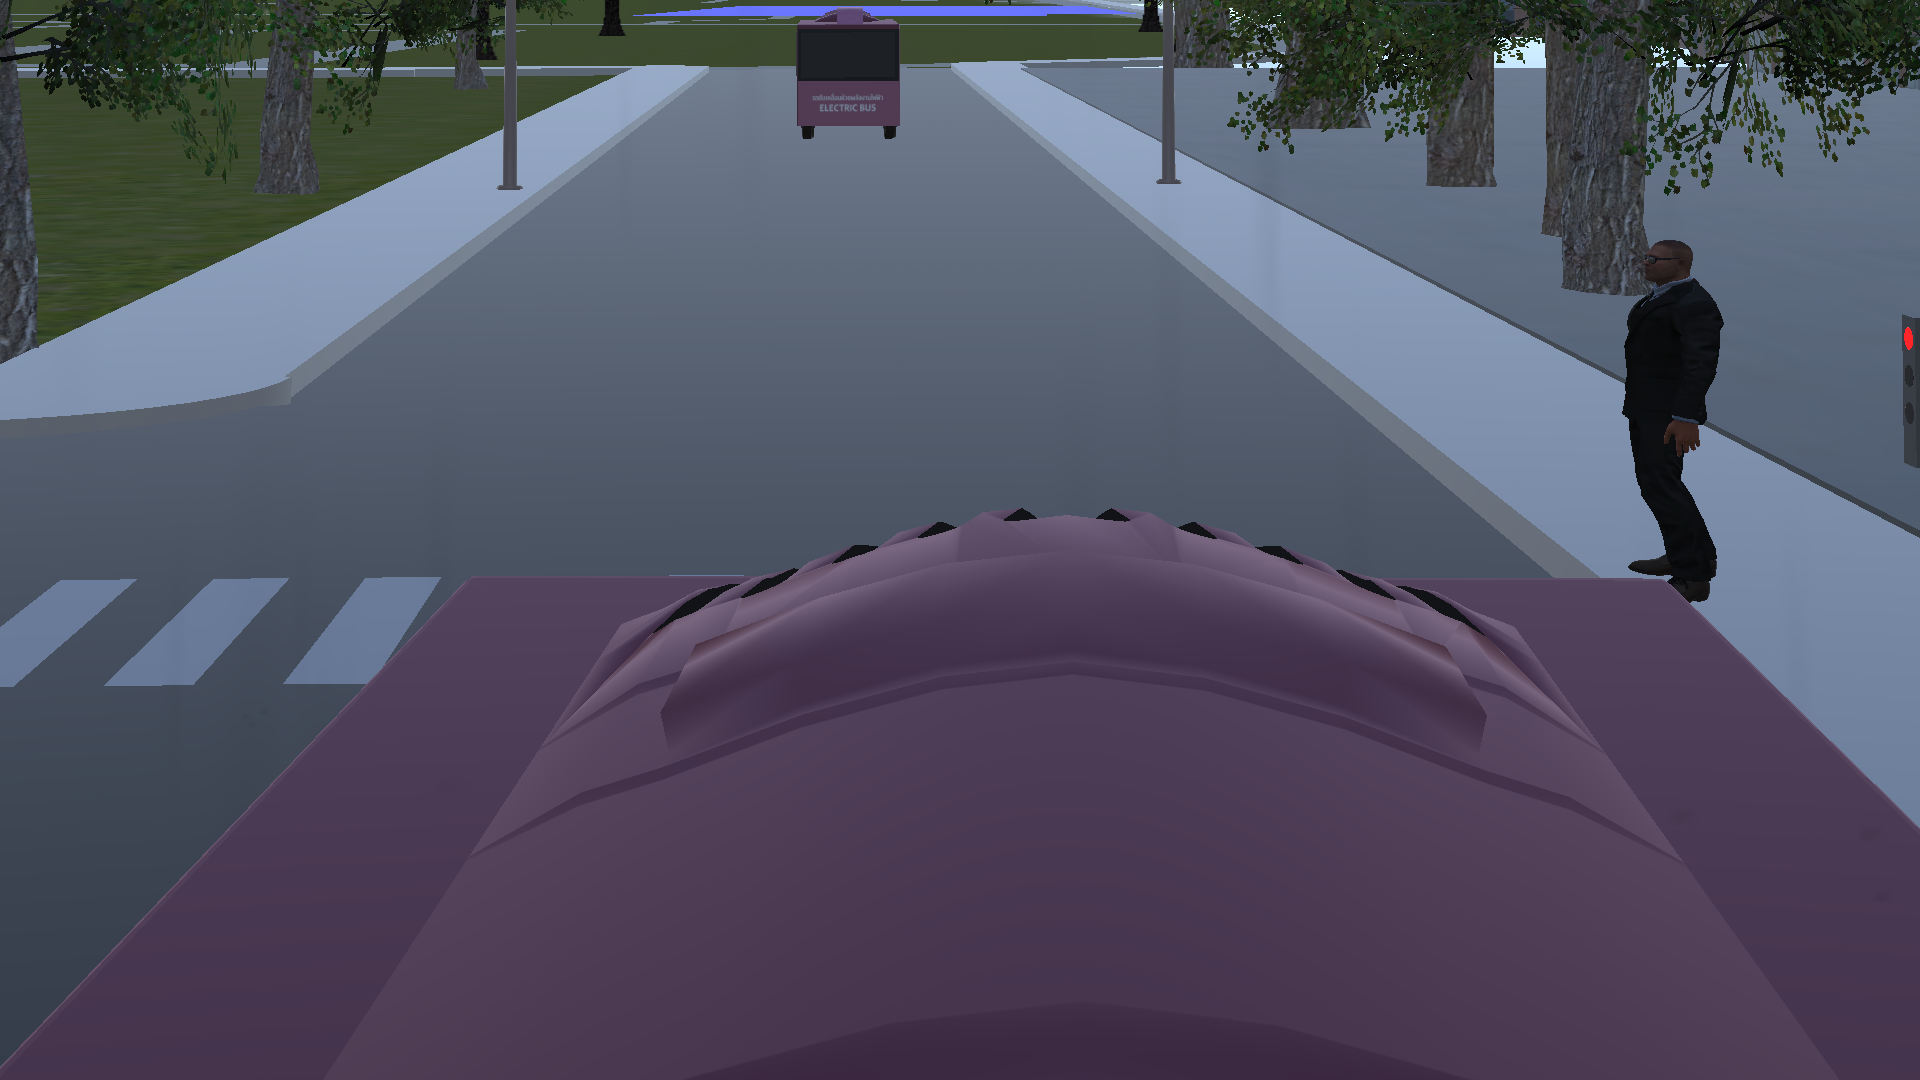pedestrian: (1606, 234, 1744, 603)
